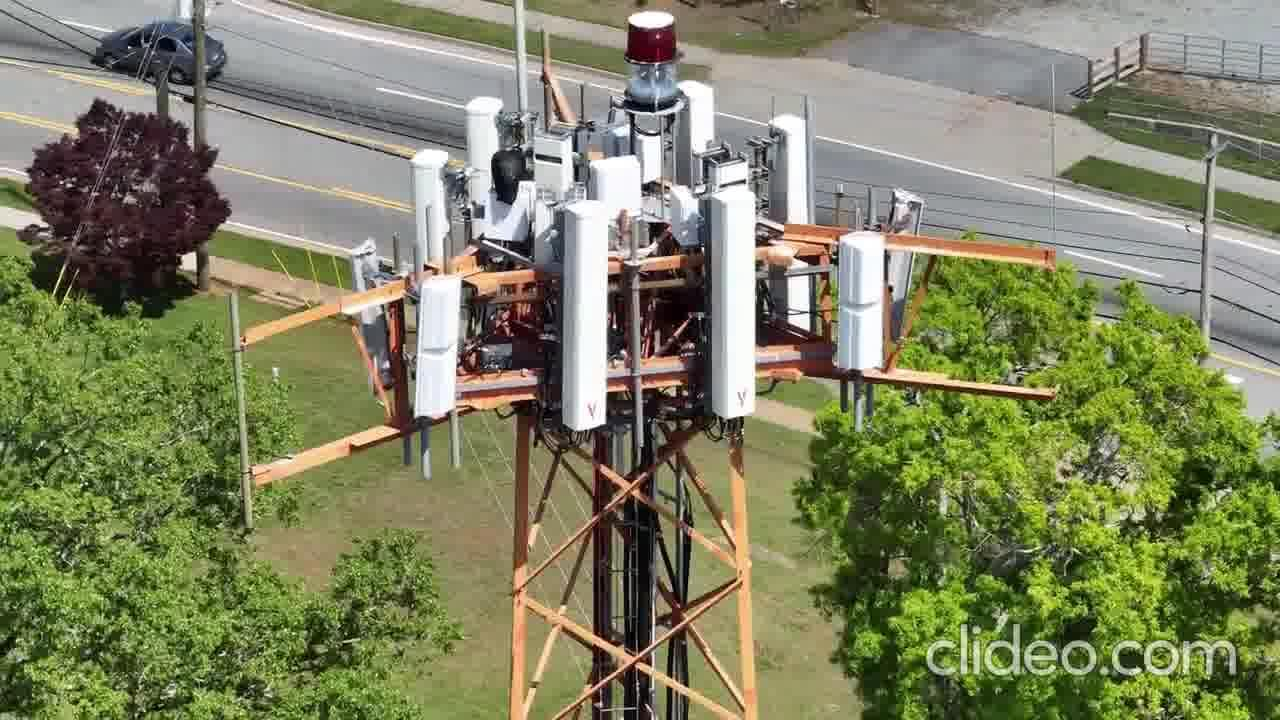antenna: (559, 198, 625, 434), (709, 190, 767, 421), (830, 227, 887, 377), (412, 269, 466, 416), (407, 142, 457, 276), (345, 233, 390, 379), (456, 92, 511, 211), (767, 111, 811, 237), (675, 77, 721, 193)
